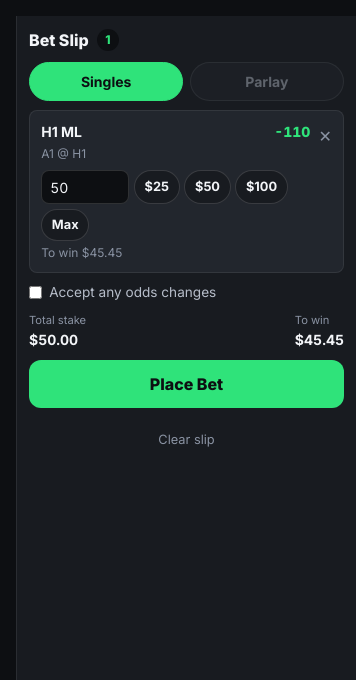
Test: BetSlip › refreshes board prices after a placement attempt, so a moved price shows on its tile
Click the button "Place Bet": coordinates (186, 384) [29,360,344,408]
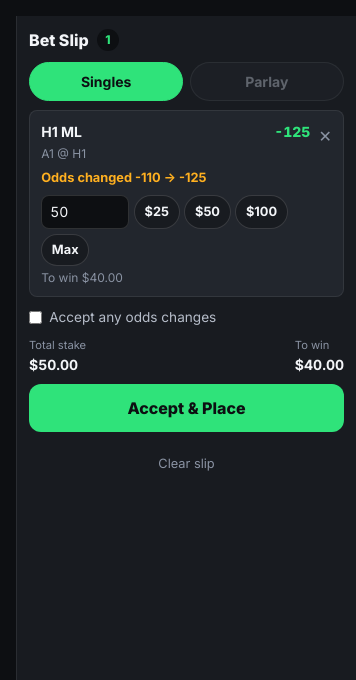
Result: the text "Odds changed -110 → -125" is shown at [41,170,207,185]
